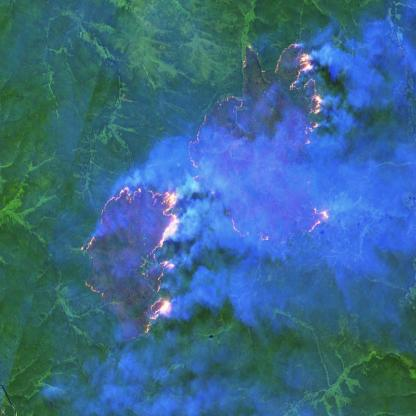fire: (185, 38, 334, 250), (76, 181, 184, 340)
